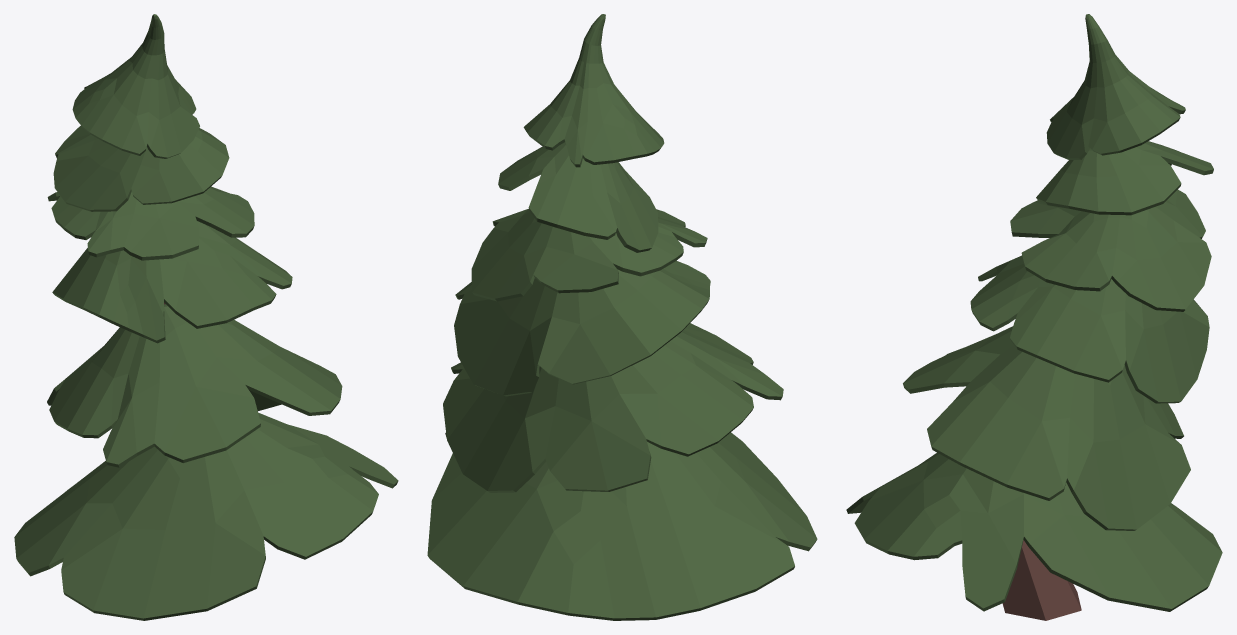
File: PineTree_3-transformed.glb
The picture shows the model from 3 angles, left to right: view 1: azimuth 30°, elevation 25°; view 2: azimuth 150°, elevation 25°; view 3: azimuth 270°, elevation 25°; orthographic projection. The views are drawn at different scales.
Visible parts, largest first — view 1: PineTree_3; view 2: PineTree_3; view 3: PineTree_3.
Part boxes in pixels (box(x1,y1,x2,y2)): PineTree_3: box(14, 14, 398, 620); PineTree_3: box(427, 14, 817, 620); PineTree_3: box(846, 14, 1222, 620).
Bounding box in the file's own units: 2.16 × 3.3 × 1.95.
